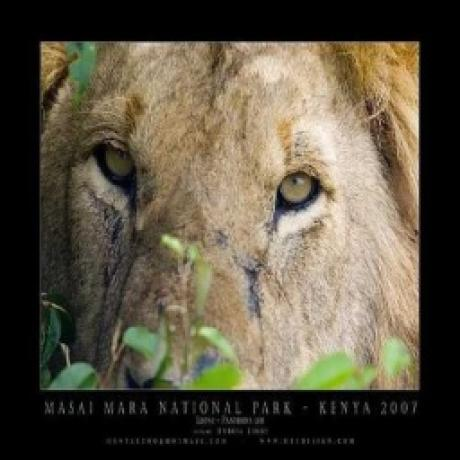Lion: (44, 44, 417, 390)
